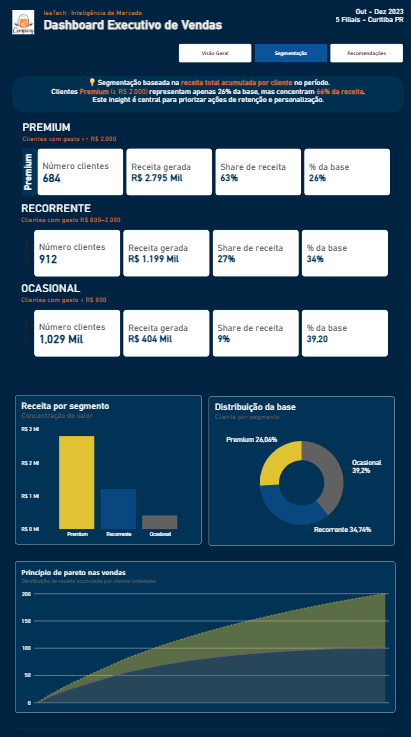

This screenshot's page, from the dashboard's own definition file:
{"tool":"powerbi","page":{"name":"Segmentação ","canvas":[1100,2000],"ordinal":1},"visuals":[{"type":"textbox","title":"IsaTech · Inteligência de Mercado","box":[117.1,22.9,680,92.9],"z":0},{"type":"textbox","box":[875.6,21.1,200,50],"z":1000},{"type":"shape","box":[45.7,1917.1,994.3,55.7],"z":6000},{"type":"clusteredColumnChart","title":"Receita por segmento","fields":{"Category":["CLIENTES RECEITA.SEGMENTO"],"Y":["VENDAS.Receita Total"]},"box":[38.7,1054.7,497.3,398.7],"z":7000},{"type":"donutChart","title":"Distribuição da base","fields":{"Category":["CLIENTES RECEITA.SEGMENTO"],"Y":["Medidas.Clientes Únicos"]},"box":[557.3,1056,496,398.7],"z":8000},{"type":"cardVisual","title":"RECORRENTE","fields":{"Data":["CountNonNull(CLIENTES RECEITA.ID_CLIENTE)","Sum(CLIENTES RECEITA.RECEITA CLIENTE)","CLIENTES RECEITA.Share Receita2%","CLIENTES RECEITA.Share Clientes %"],"Rows":["CLIENTES RECEITA.SEGMENTO"]},"box":[57.3,537.3,980,201.3],"z":10000},{"type":"cardVisual","title":"OCASIONAL","fields":{"Data":["CountNonNull(CLIENTES RECEITA.ID_CLIENTE)","Sum(CLIENTES RECEITA.RECEITA CLIENTE)","CLIENTES RECEITA.Share Receita2%","CLIENTES RECEITA.Share Clientes %"],"Rows":["CLIENTES RECEITA.SEGMENTO"]},"box":[57.3,749.3,980,201.3],"z":11000},{"type":"textbox","box":[32,202.7,1044,96],"z":12000},{"type":"stackedAreaChart","title":"Princípio de pareto nas vendas","fields":{"Category":["CLIENTES_RECEITA.RANK _CLIENTE"],"Y":["CLIENTES_RECEITA.% Receita Acumulada","CLIENTES_RECEITA.Referencia 80/20"]},"box":[38.7,1497.3,1014.7,404],"z":13000},{"type":"pageNavigator","box":[476,116,600,50.7],"z":13001},{"type":"cardVisual","title":"PREMIUM","fields":{"Data":["CountNonNull(CLIENTES RECEITA.ID_CLIENTE)","Sum(CLIENTES RECEITA.RECEITA CLIENTE)","CLIENTES RECEITA.Share Receita2%","CLIENTES RECEITA.Share Clientes %"],"Rows":["CLIENTES RECEITA.SEGMENTO"]},"box":[60,318.7,980,201.3],"z":13002},{"type":"image","box":[0,27.5,124.2,65],"z":13003}]}

Visuals, with their boxes in screenshot pixels (x1, y1, x2, y2), scaled from the page's 1100x2000 canvas onto the 411x737 screenshot:
"IsaTech · Inteligência de Mercado" textbox: [44,8,298,43]
textbox: [327,8,402,26]
shape: [17,706,389,727]
"Receita por segmento" clusteredColumnChart: [14,389,200,536]
"Distribuição da base" donutChart: [208,389,394,536]
"RECORRENTE" cardVisual: [21,198,388,272]
"OCASIONAL" cardVisual: [21,276,388,350]
textbox: [12,75,402,110]
"Princípio de pareto nas vendas" stackedAreaChart: [14,552,394,701]
pageNavigator: [178,43,402,61]
"PREMIUM" cardVisual: [22,117,389,192]
image: [0,10,46,34]
